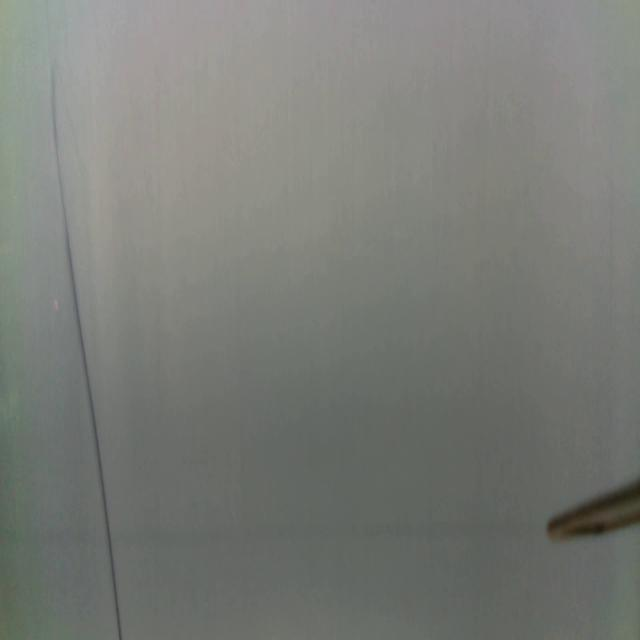color bleeding: (0, 512, 545, 551)
crease: (49, 63, 122, 640)
